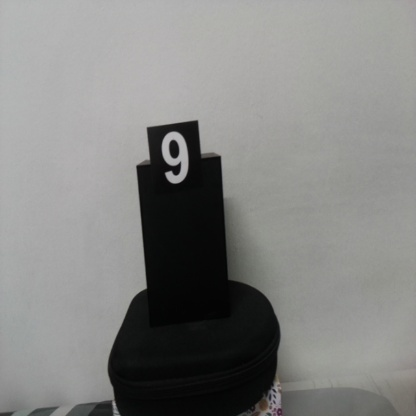id_9: (147, 127, 203, 200)
